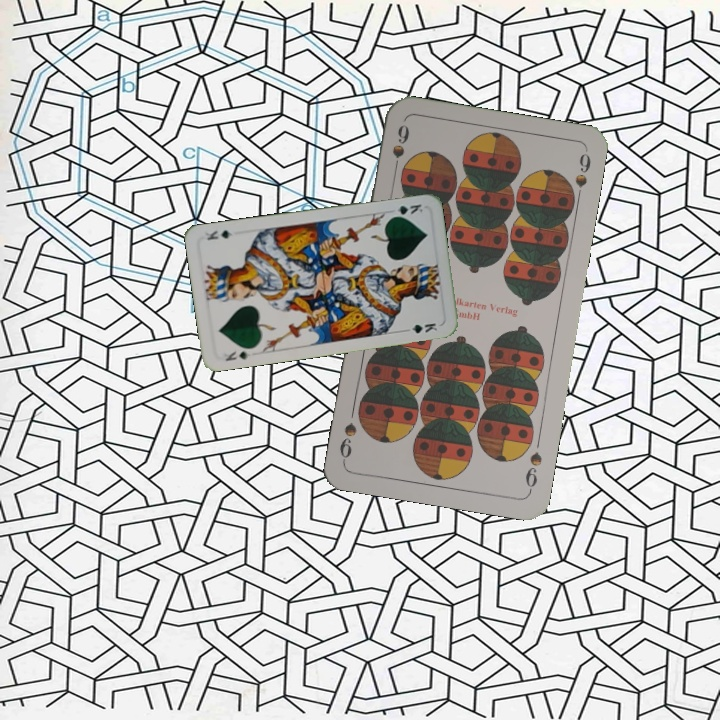GK: (386, 200, 425, 220), (221, 346, 253, 364)
S9: (388, 120, 412, 179), (521, 448, 544, 495)
